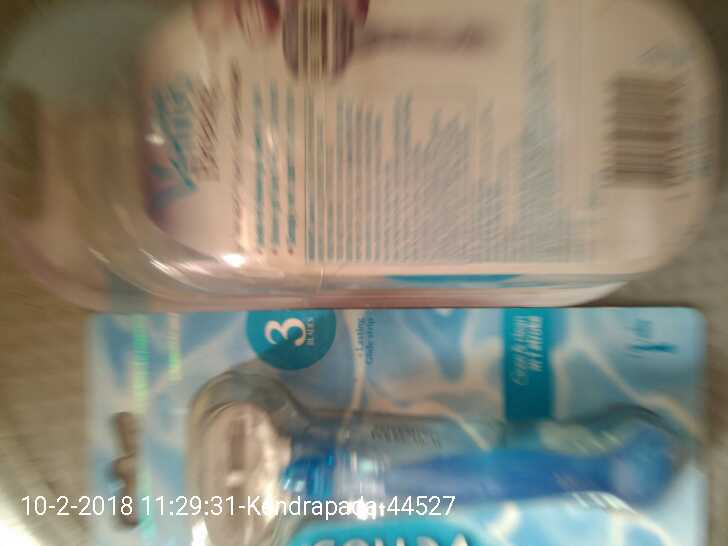venus: (141, 347, 705, 530)
